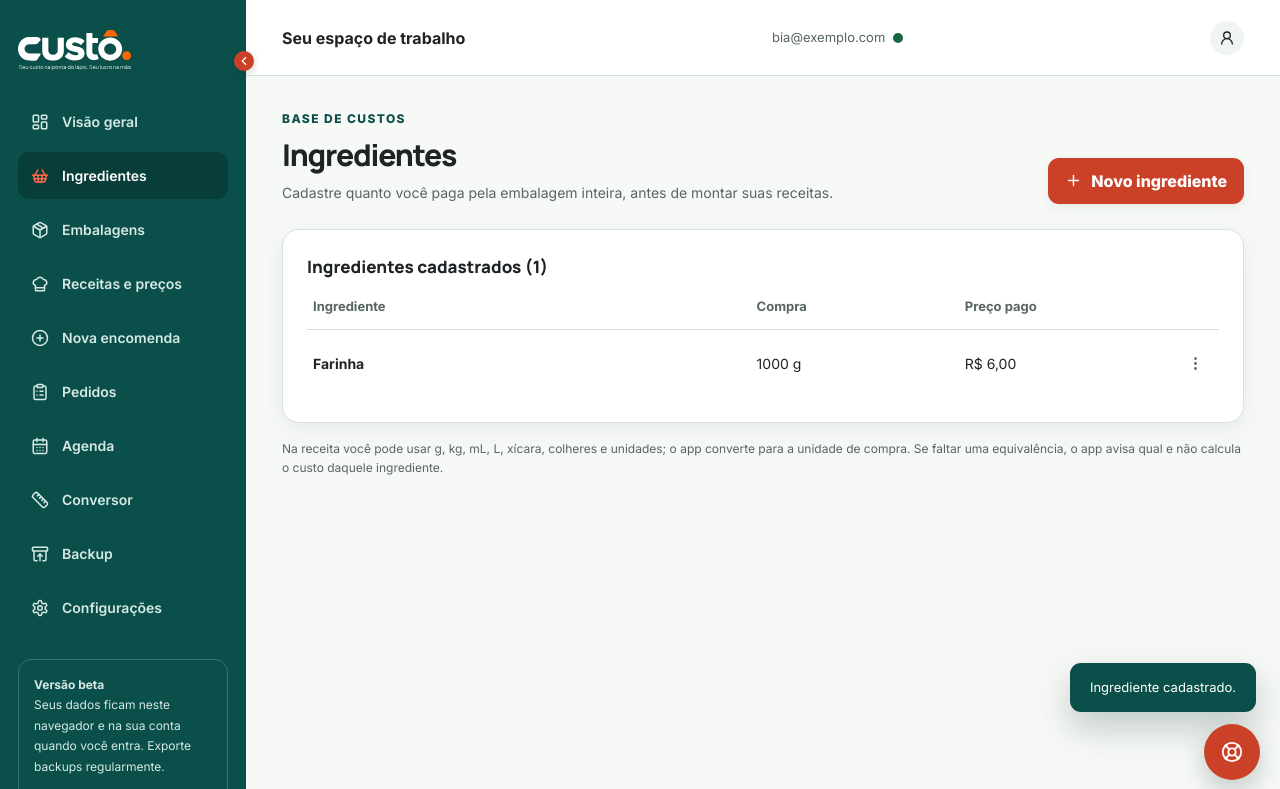
Scenario: Alteração feita sem conexão › fica pendente (nunca "sincronizado"), tenta de novo sozinha e confirma sem o evento `online`
This screenshot has width=1280, height=789.
Earlier steps of the test are not shown.
Click the button named "Ações de Farinha". click: {"x": 1195, "y": 364}
box: [1177, 342, 1213, 386]
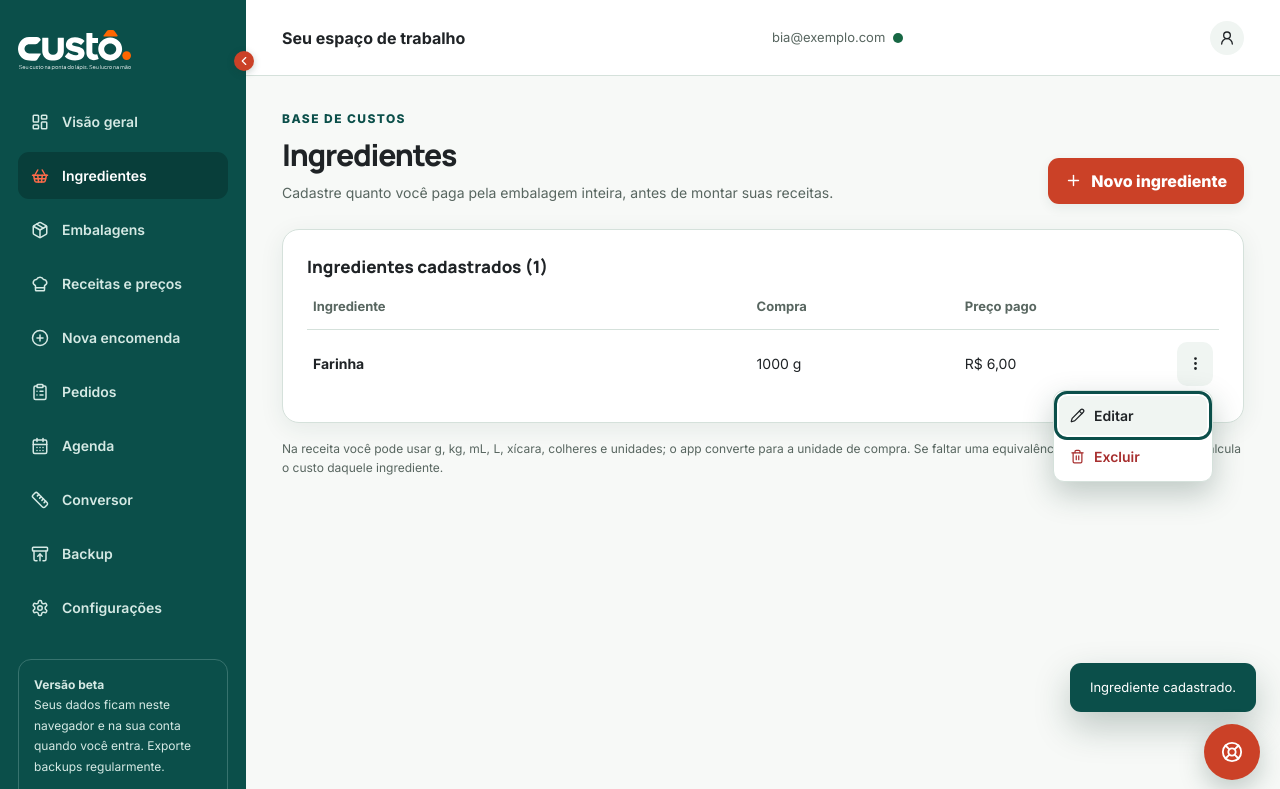
Click the menu item with aria-label "Editar Farinha". click: {"x": 1133, "y": 415}
box: [1059, 396, 1207, 435]
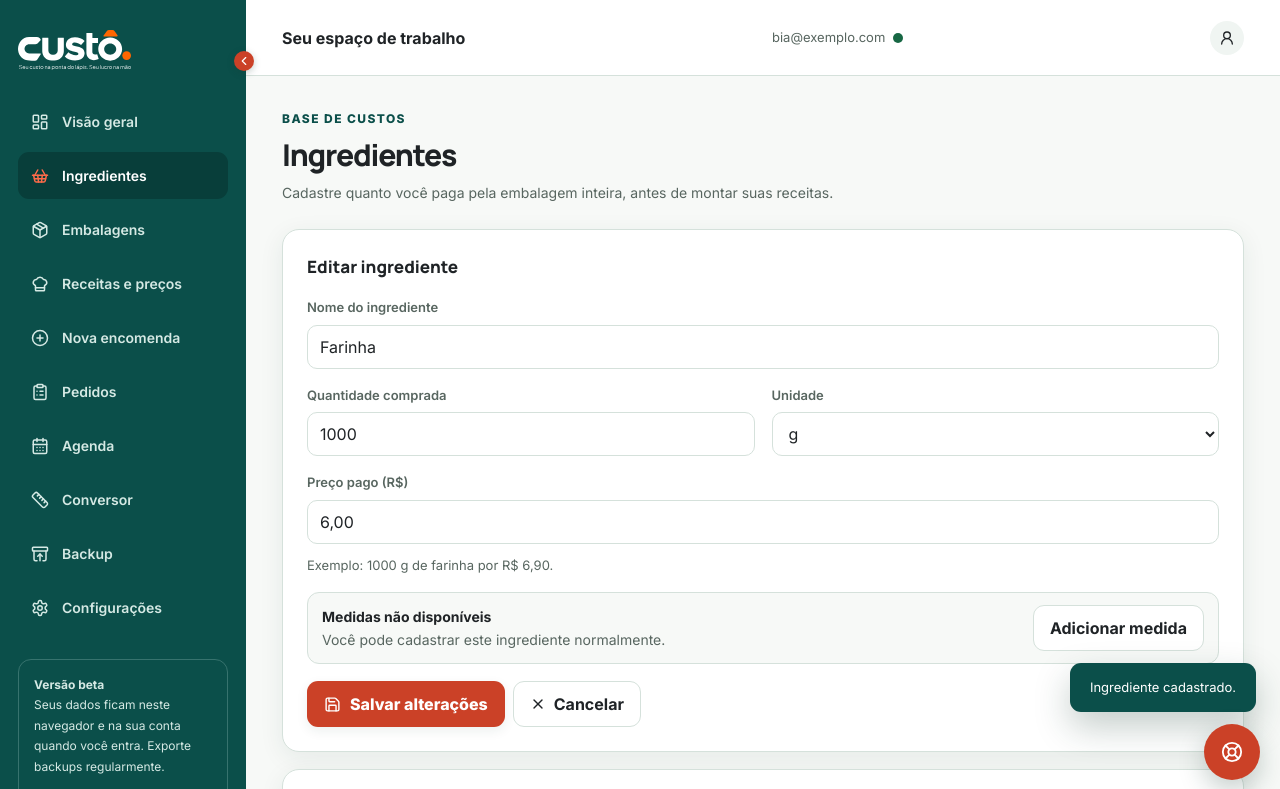
Replace the text in the field labelled "Preço pago (R$)" with "10". click: {"x": 763, "y": 522}
box: [307, 500, 1219, 544]
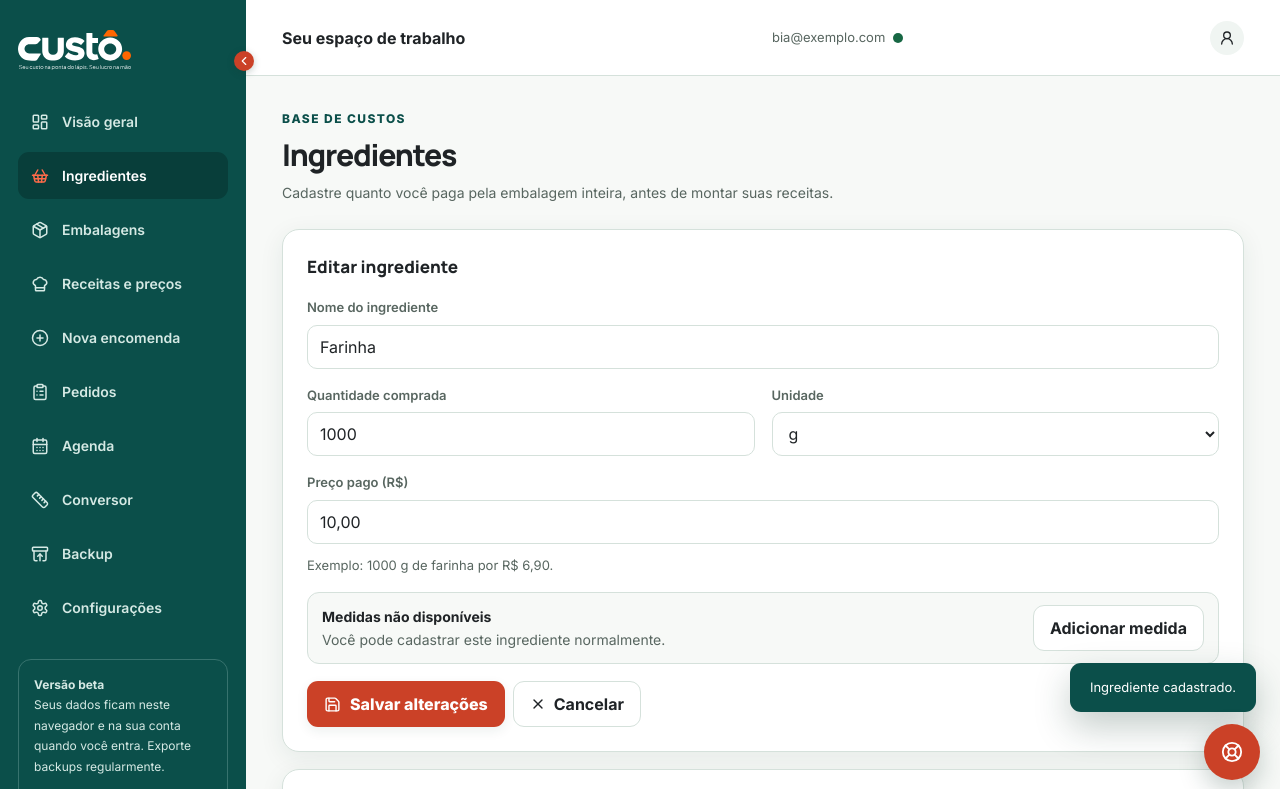
Click the button "Salvar alterações". click: {"x": 406, "y": 704}
box: [307, 681, 505, 727]
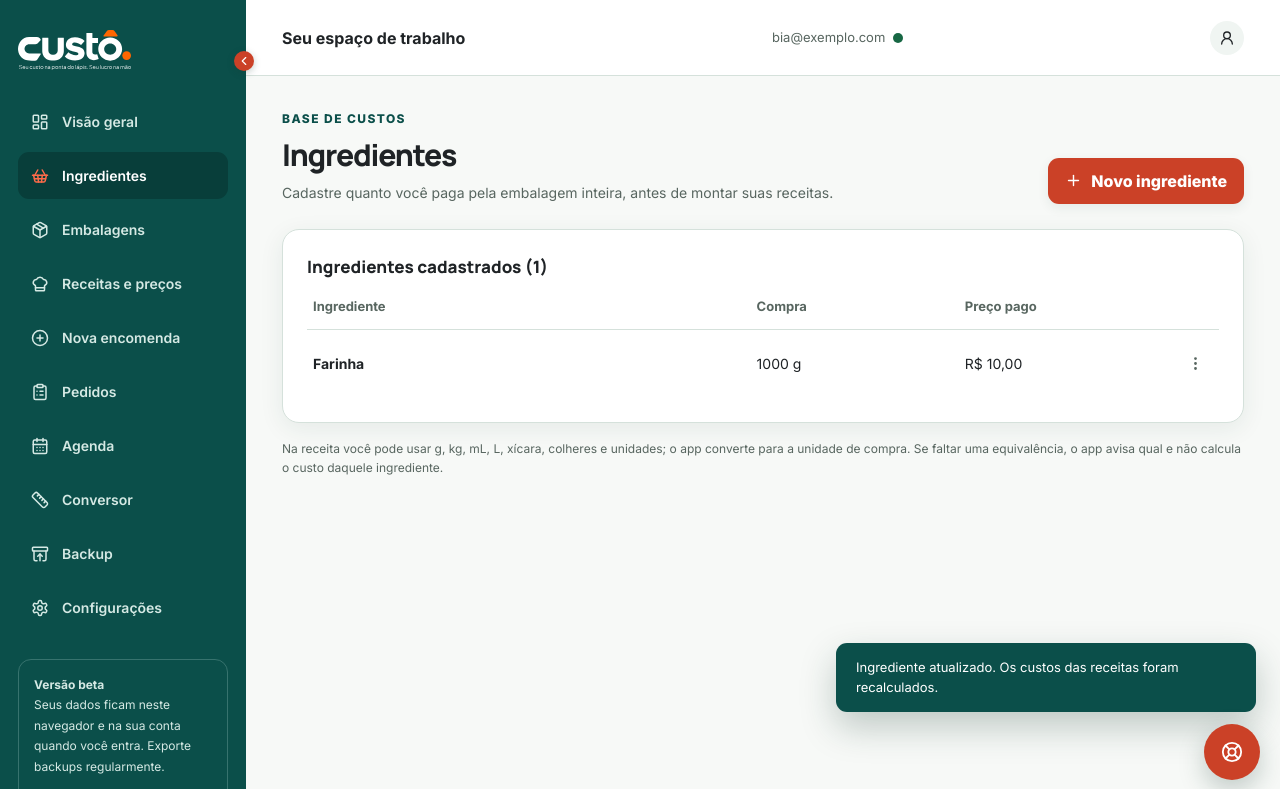
Expected: the text "Ingrediente atualizado" does not show "sincroniz"
Now the text "Ingrediente atualizado. Os custos das receitas foram recalculados." is shown, box [836, 643, 1256, 712]
